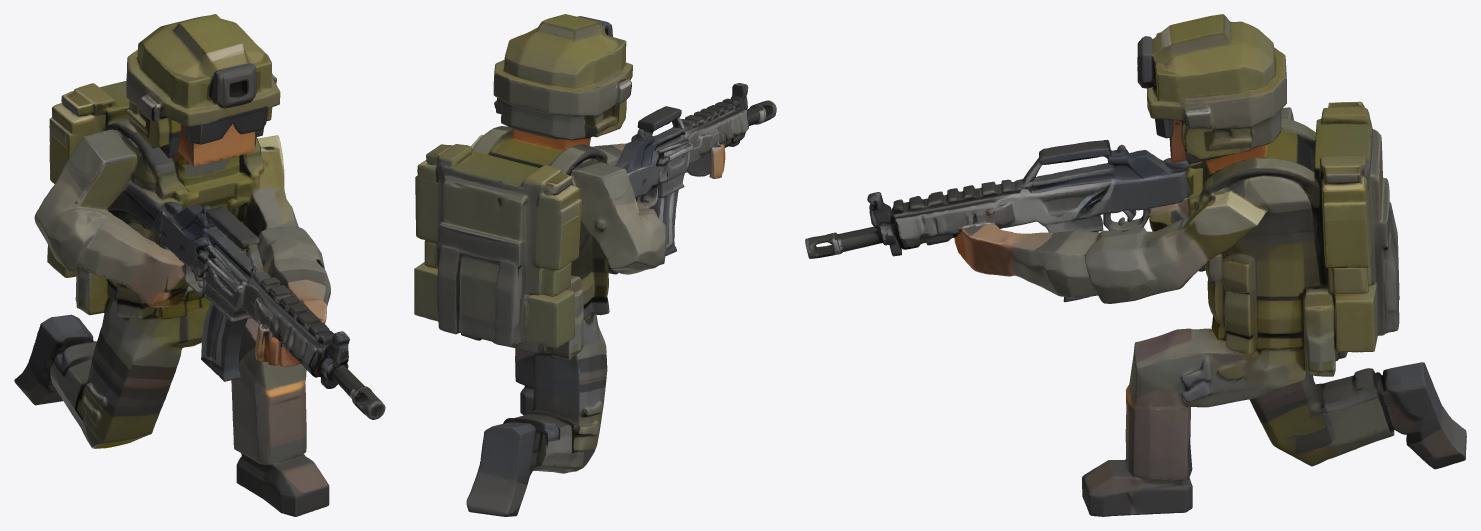
The model's file is low poly soldier 3d model.glb.
3 renders of one model, left to right at view 1: azimuth 30°, elevation 25°; view 2: azimuth 150°, elevation 25°; view 3: azimuth 270°, elevation 25°, orthographic. The views are drawn at different scales.
Visible parts, largest first — view 1: tripo_node_5449215e-9d3d-41e1-94d3-829608fe6268; view 2: tripo_node_5449215e-9d3d-41e1-94d3-829608fe6268; view 3: tripo_node_5449215e-9d3d-41e1-94d3-829608fe6268.
Part boxes in pixels (<box>): tripo_node_5449215e-9d3d-41e1-94d3-829608fe6268: <box>14,14,385,516</box>; tripo_node_5449215e-9d3d-41e1-94d3-829608fe6268: <box>414,14,776,516</box>; tripo_node_5449215e-9d3d-41e1-94d3-829608fe6268: <box>805,14,1466,516</box>.
Bounding box in the file's own units: 0.3877 × 0.7685 × 1.
Materials: 1 (1 with a texture image).
